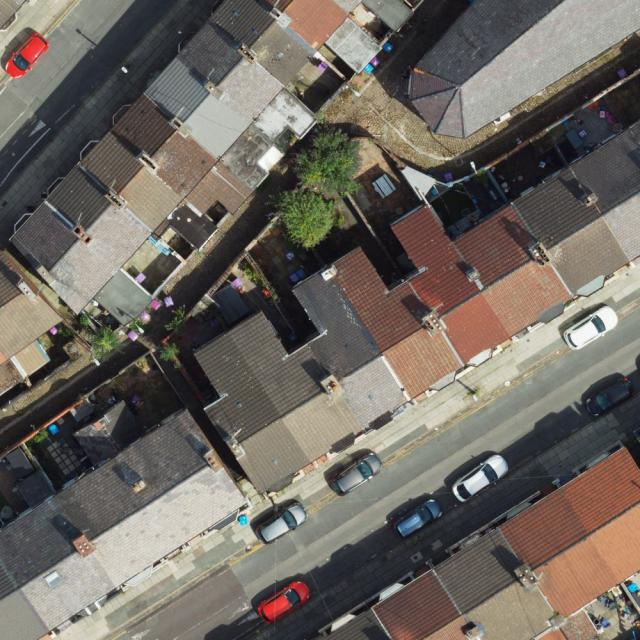roof: (194, 120, 640, 498), (9, 0, 362, 315), (322, 446, 640, 640), (0, 408, 251, 640), (413, 1, 640, 139), (0, 250, 64, 367)
skylight: (44, 570, 64, 590)
